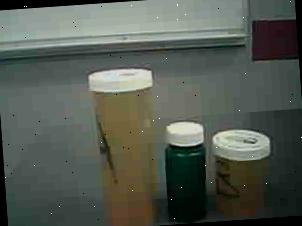Bottle A: (82, 62, 165, 226)
Bottle B: (210, 124, 278, 222)
Bottle C: (160, 117, 210, 225)
